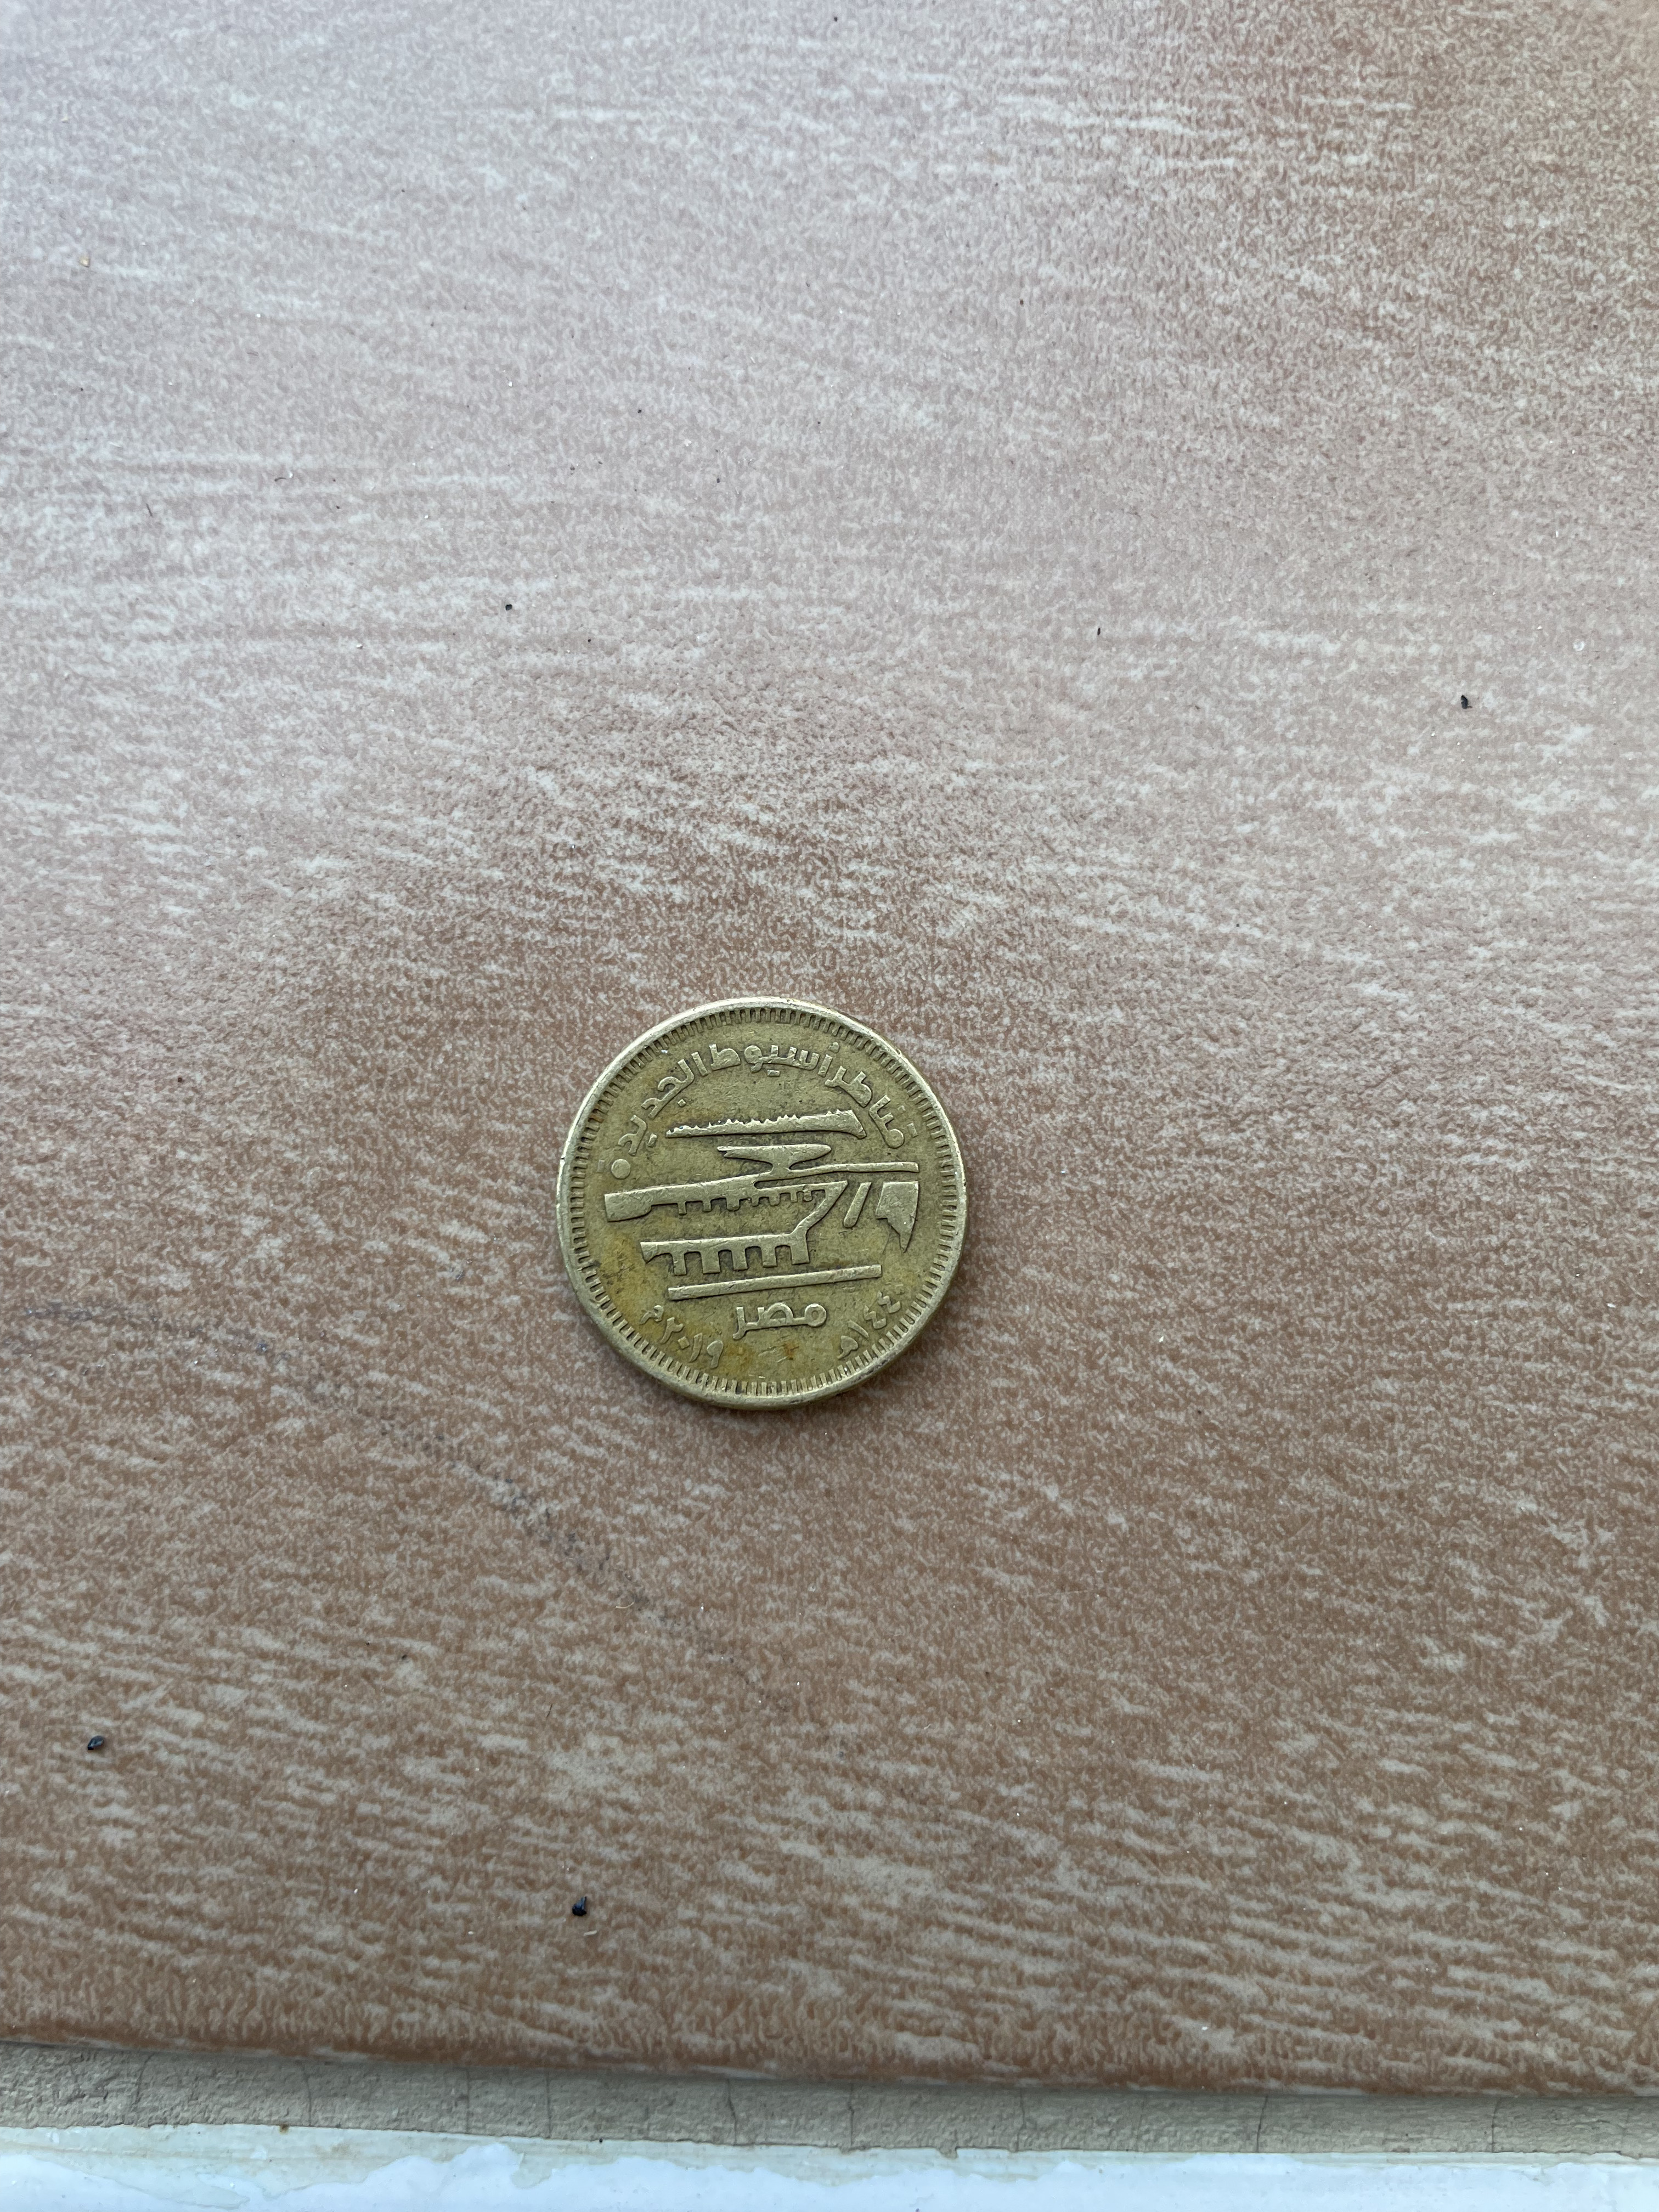half: (545, 984, 979, 1423)
